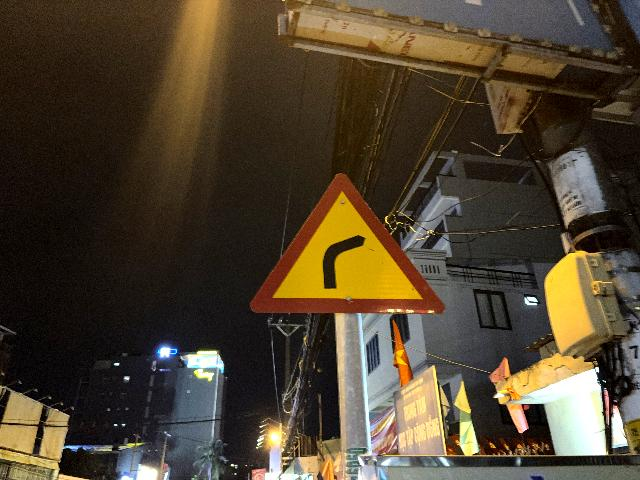cho-ngoat-nguy-hiem-ben-phai: (250, 171, 444, 314)
